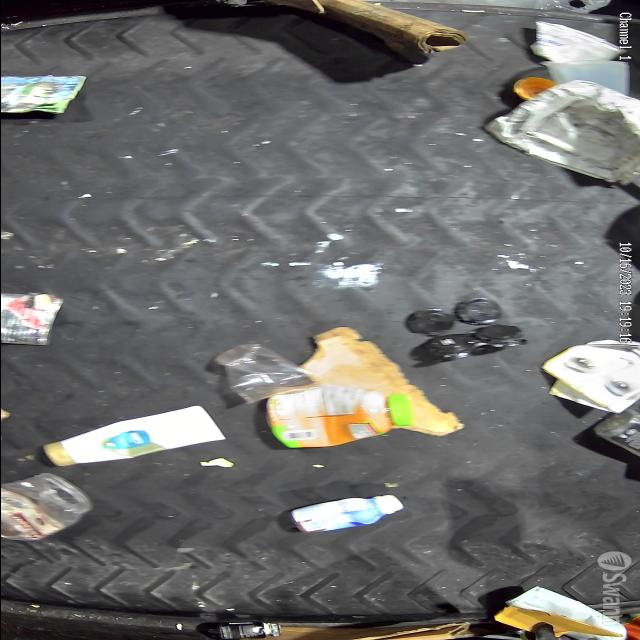can: (1, 292, 68, 348)
